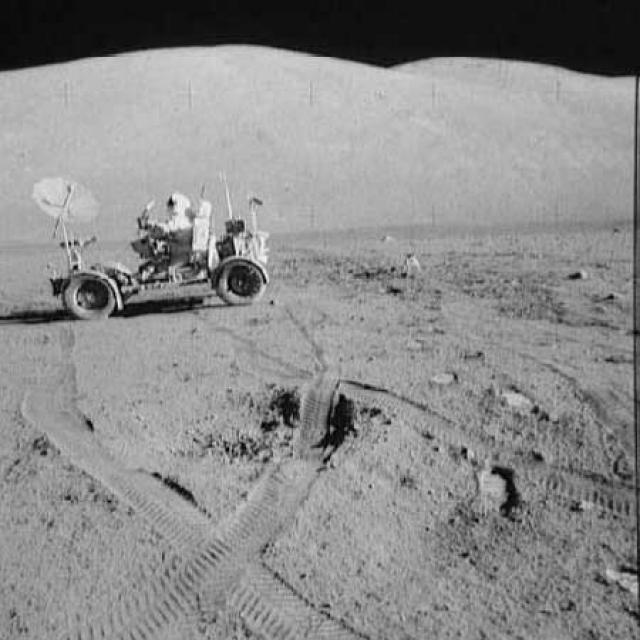artifact: (21, 171, 285, 324)
crater: (44, 377, 353, 478)
